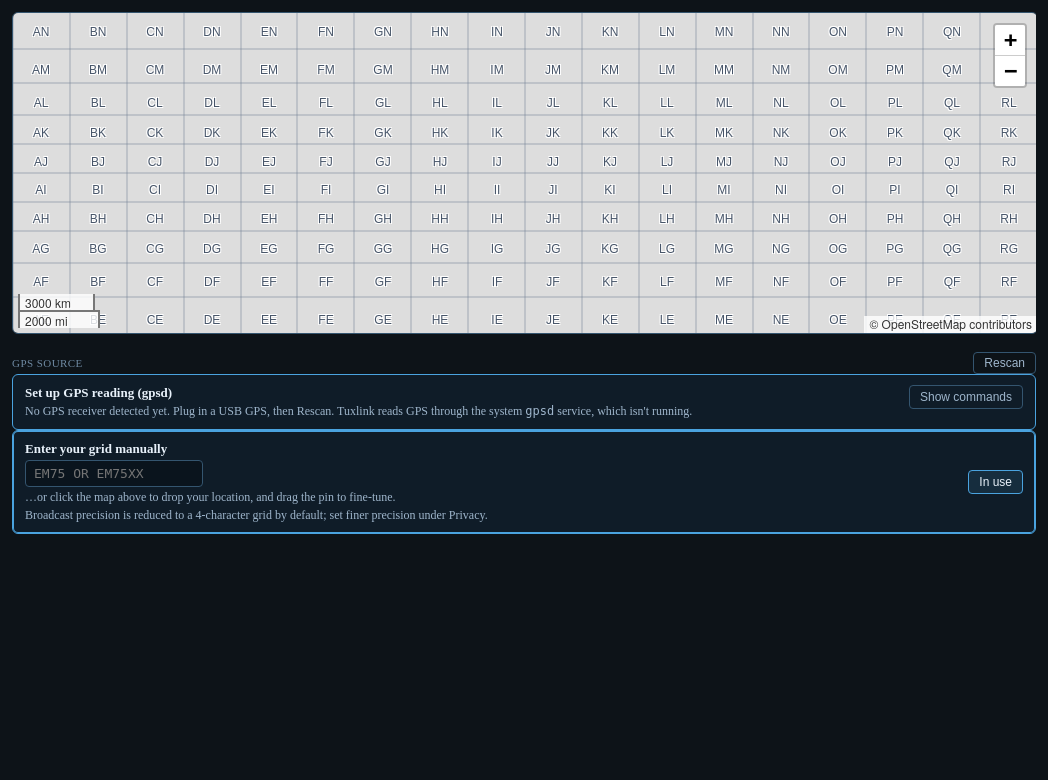
GpsSourcePicker › offers copy-paste guidance (no one-click) when there is no apt
Check: the element with test id "gps-setup-gpsd" is shown, box [12, 374, 1036, 430]
Click the button with test id "gps-setup-show-commands" at (966, 397), box [909, 385, 1023, 409]
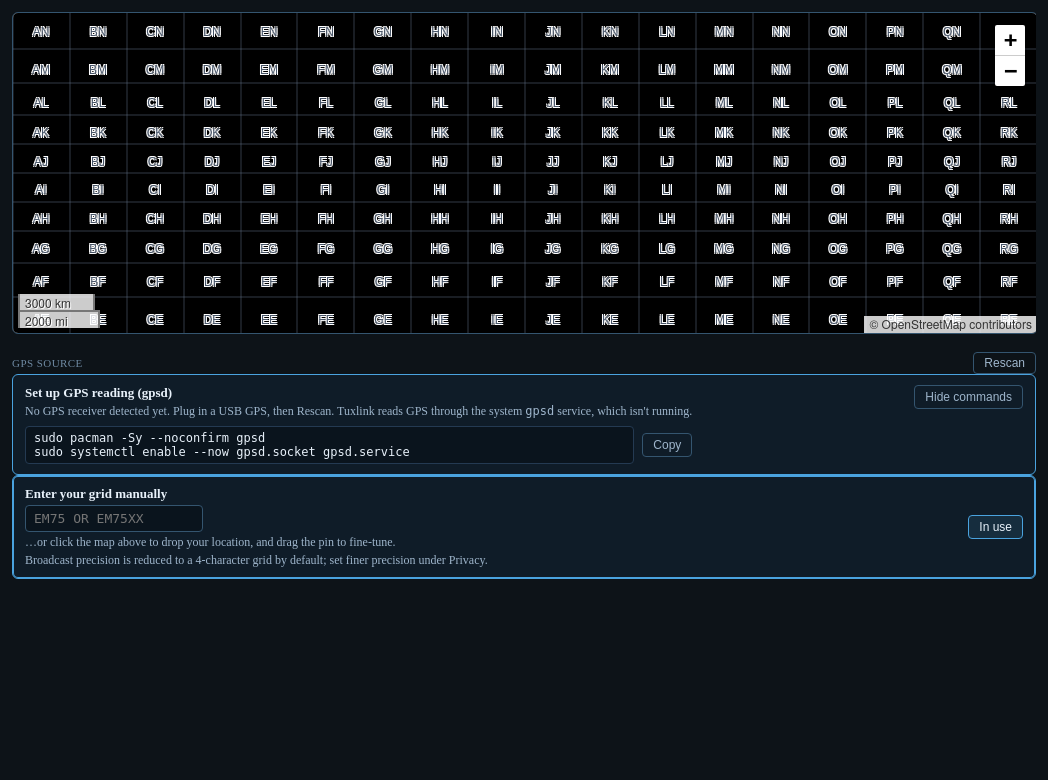
Check: the text with test id "gps-setup-command" shows "pacman -S", box [34, 431, 410, 459]
